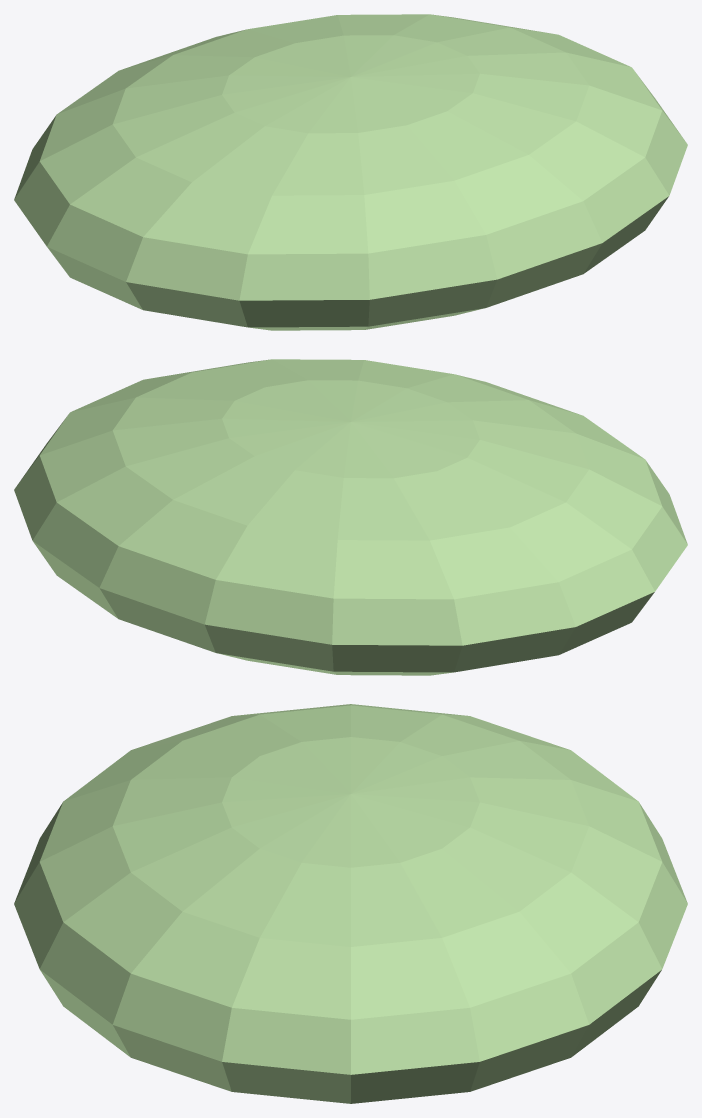
File: Hill.glb
3 renders of one model, top to bottom at view 1: azimuth 30°, elevation 25°; view 2: azimuth 150°, elevation 25°; view 3: azimuth 270°, elevation 25°, orthographic. The views are drawn at different scales.
Visible parts, largest first — view 1: Hill_0; view 2: Hill_0; view 3: Hill_0.
Part boxes in pixels (x1,y1,x2,y2): Hill_0: (14, 14, 687, 330); Hill_0: (14, 359, 687, 675); Hill_0: (14, 704, 687, 1103).
Bounding box in the file's own units: 60 × 18 × 50.
